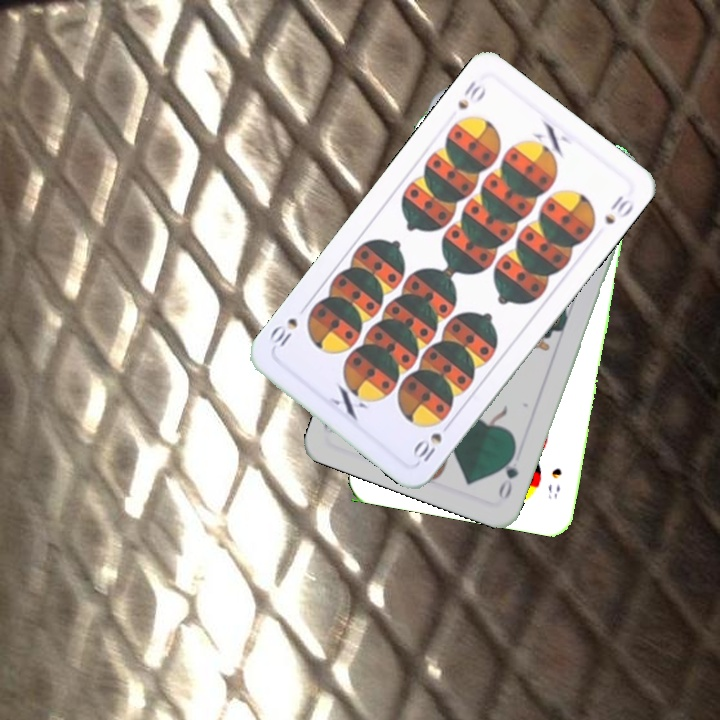GO: (494, 444, 521, 502)
S10: (409, 428, 445, 465), (453, 76, 489, 112)
S8: (544, 464, 564, 502)
